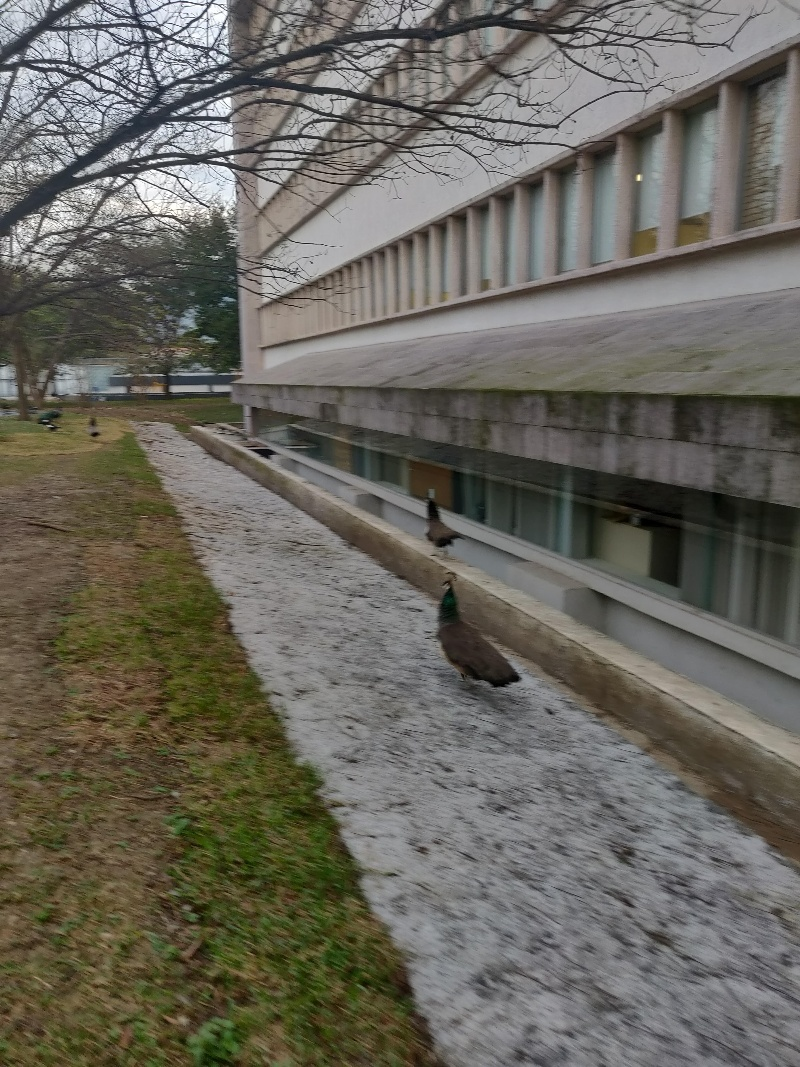pavoreal: (429, 569, 520, 689)
